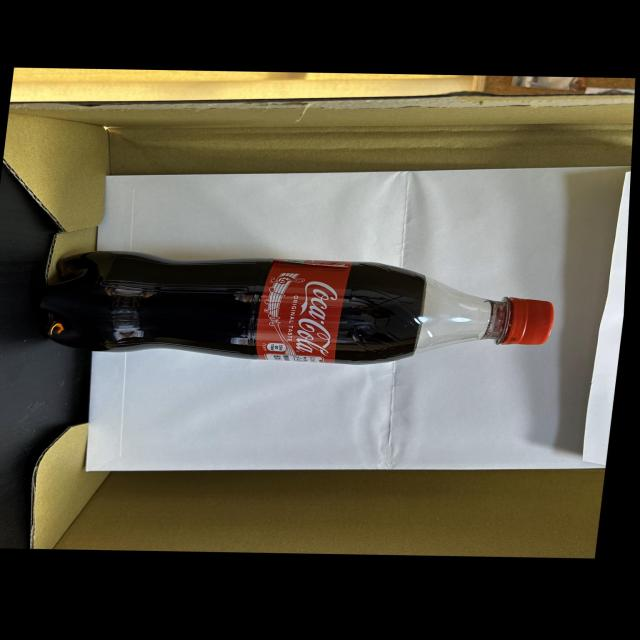high: (42, 250, 553, 365)
